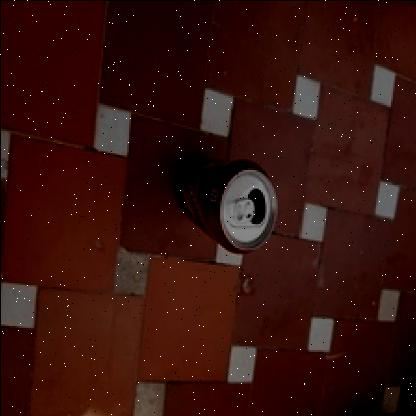Can: (167, 143, 271, 261)
